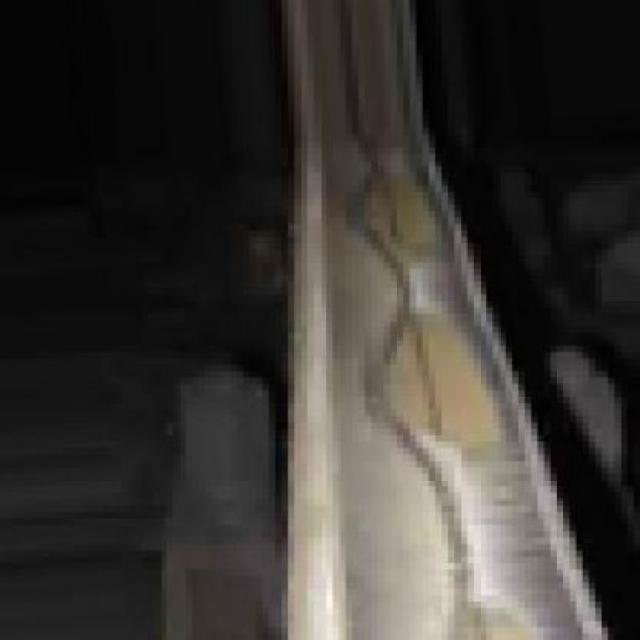defective: (270, 3, 612, 640)
